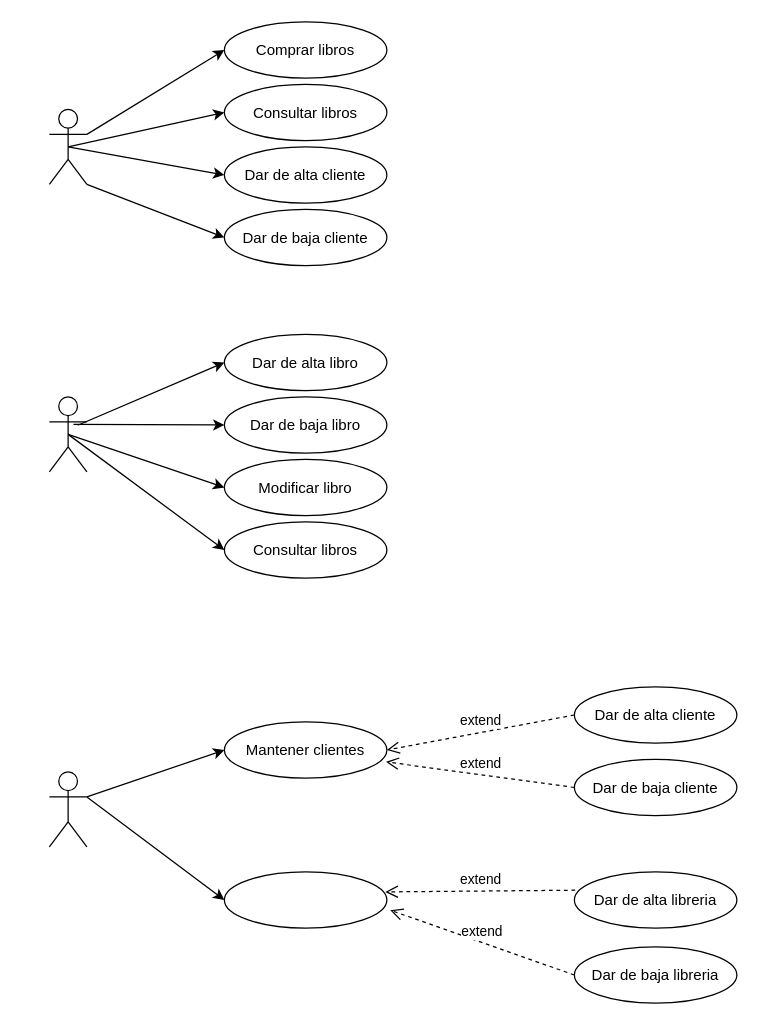
The diagram is 759 pixels wide and 1025 high, and some of its shapes have lost their labels. Each missing label, with the centre of its shape:
"Administrador" goes at (67,809).
"Cliente" goes at (67,146).
"Libreria" goes at (67,434).
"Mantener librerias" goes at (305,899).
